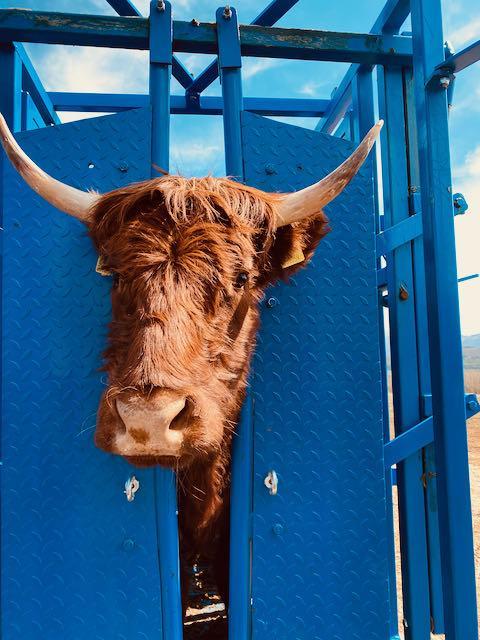muzzles: (87, 387, 215, 477)
